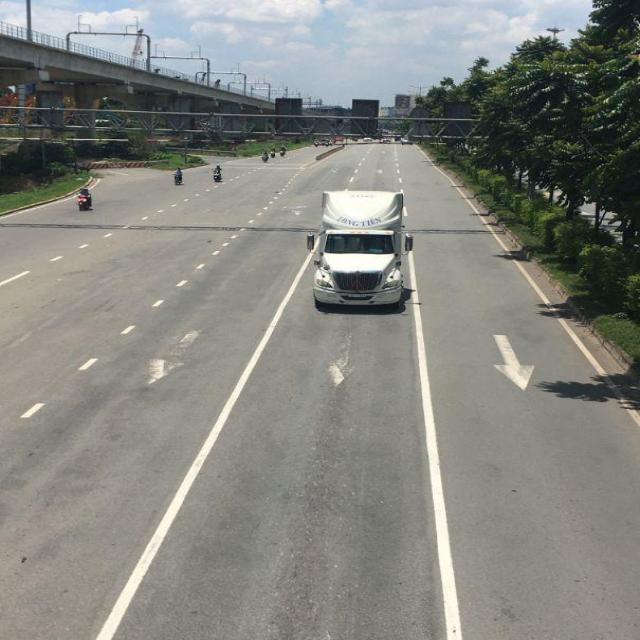motorcycle: (80, 190, 95, 211), (214, 164, 223, 181)
truck: (311, 194, 410, 312)
